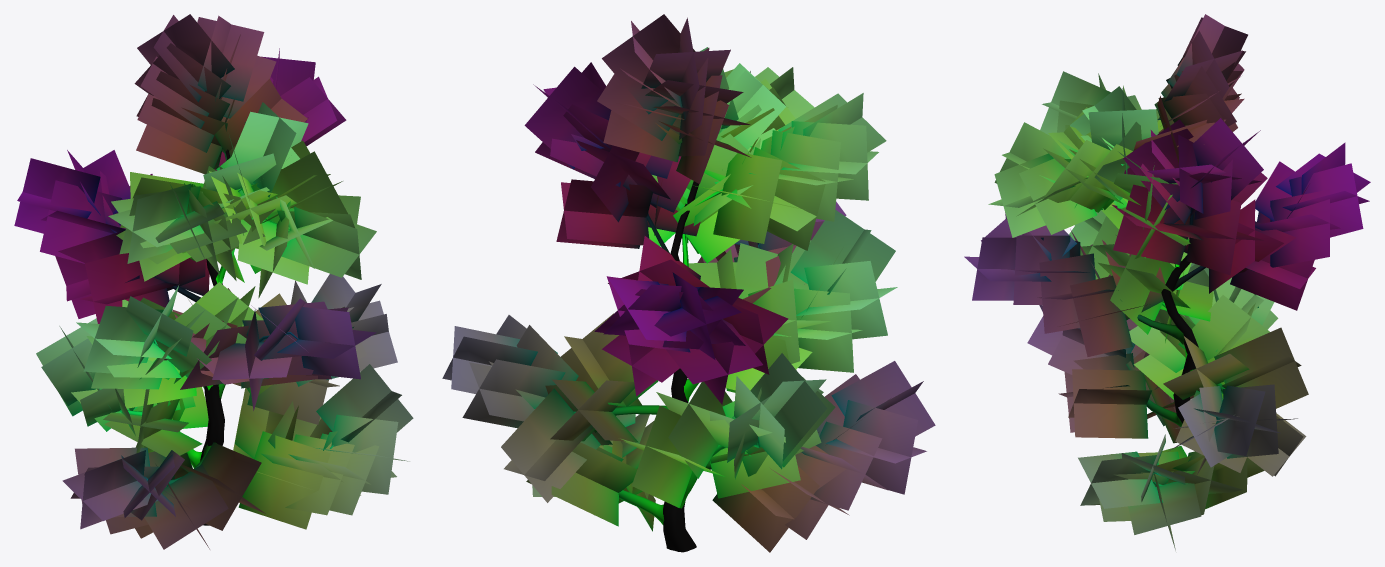
File: URP_P11_Tree_5_LOD_1.fbx
3 renders of one model, left to right at view 1: azimuth 30°, elevation 25°; view 2: azimuth 150°, elevation 25°; view 3: azimuth 270°, elevation 25°, orthographic. The views are drawn at different scales.
Visible parts, largest first — view 1: Tree_5_LOD_1; view 2: Tree_5_LOD_1; view 3: Tree_5_LOD_1.
Boxes of the visible parts, x1,y1,x2,y2 form: Tree_5_LOD_1: (14,14,413,549); Tree_5_LOD_1: (442,14,935,552); Tree_5_LOD_1: (964,14,1370,550).
Bounding box in the file's own units: 598 × 780 × 613.
